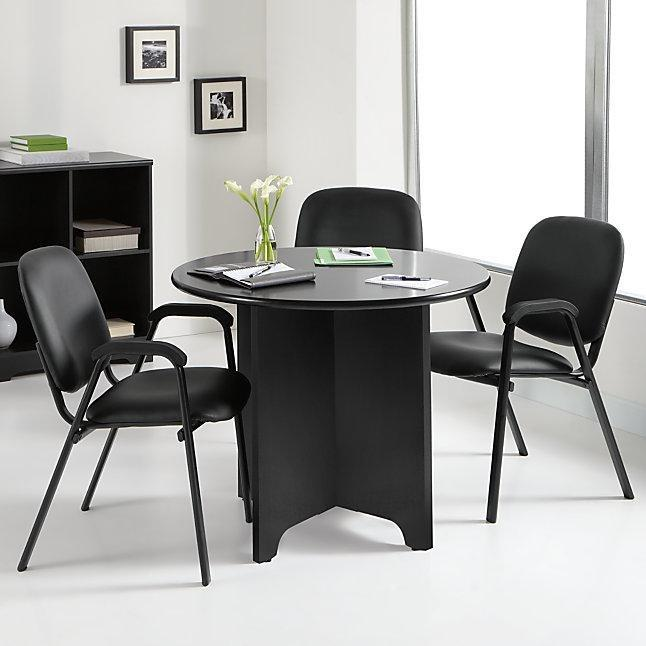conference_table: (171, 244, 492, 563)
